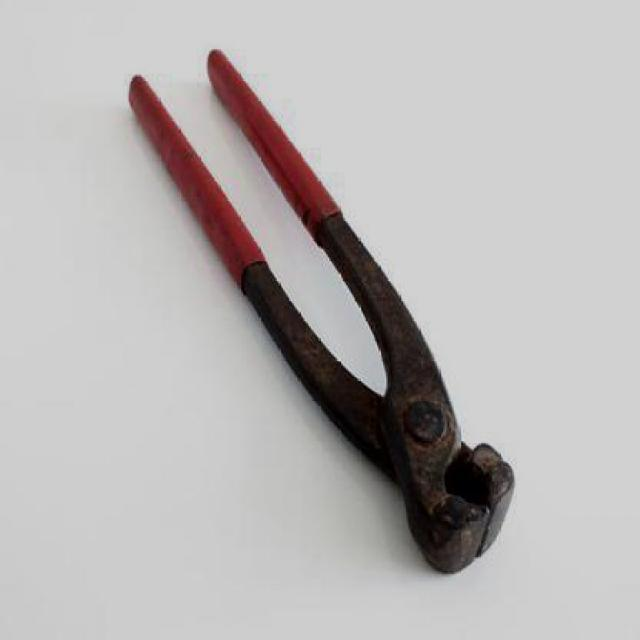pliers: (90, 41, 541, 592)
